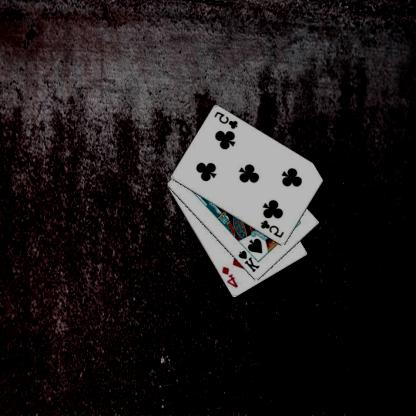4D: (221, 264, 241, 289)
5C: (213, 109, 241, 130), (260, 218, 286, 239)
KS: (237, 248, 263, 274)
